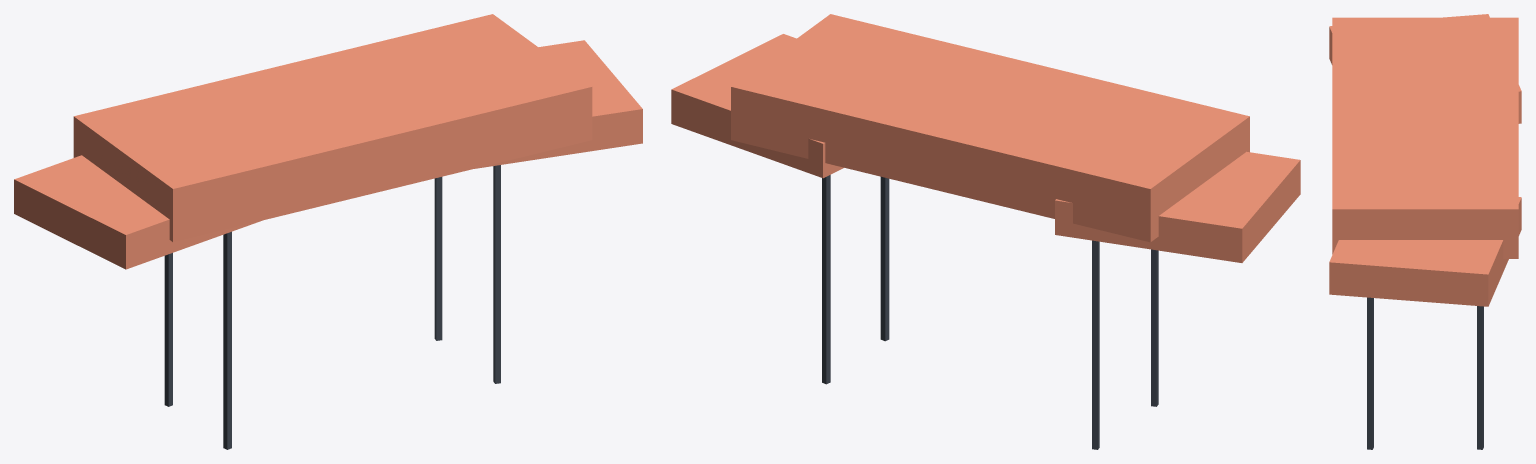
File: parachute_default.glb
The picture shows the model from 3 angles, left to right: view 1: azimuth 30°, elevation 25°; view 2: azimuth 150°, elevation 25°; view 3: azimuth 270°, elevation 25°; orthographic projection. The views are drawn at different scales.
Parts seen in each view (by area): view 1: parachute_default_canopy, parachute_default_dark; view 2: parachute_default_canopy, parachute_default_dark; view 3: parachute_default_canopy, parachute_default_dark.
Part boxes in pixels (box(x1,y1,x2,y2)): parachute_default_canopy: box(14, 14, 642, 269); parachute_default_dark: box(164, 165, 500, 449); parachute_default_canopy: box(671, 14, 1300, 262); parachute_default_dark: box(822, 175, 1158, 449); parachute_default_canopy: box(1329, 14, 1521, 306); parachute_default_dark: box(1367, 297, 1483, 449).
Bounding box in the file's own units: 3.81 × 1.87 × 1.19.
